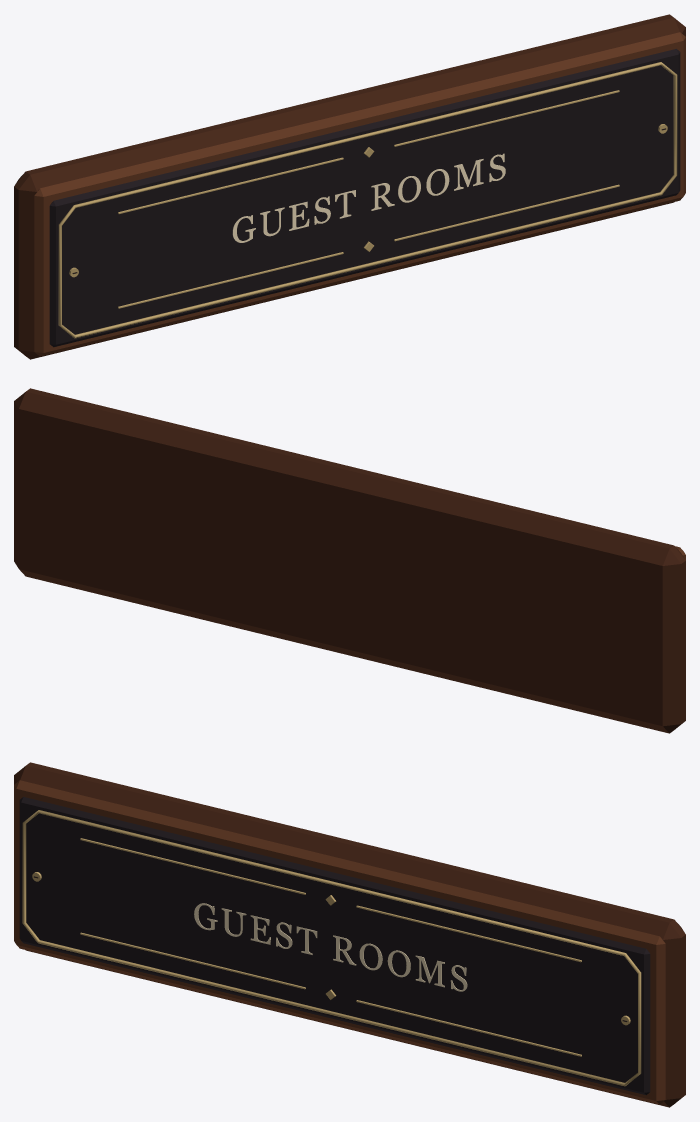
Rendered from GuestRoomsSign.glb.
The picture shows the model from 3 angles, top to bottom: view 1: azimuth 30°, elevation 25°; view 2: azimuth 150°, elevation 25°; view 3: azimuth 330°, elevation 25°; orthographic projection.
Parts seen in each view (by area): view 1: EnamelFace.004, OakMoulding.004, BevelledOak.004, GoldCartouche.004, Lettering_GUEST ROOMS, GoldHairline.016, GoldHairline.018, GoldHairline.019, GoldHairline.017; view 2: BevelledOak.004; view 3: EnamelFace.004, OakMoulding.004, BevelledOak.004, GoldCartouche.004, Lettering_GUEST ROOMS, GoldHairline.017, GoldHairline.019, GoldHairline.018, GoldHairline.016.
Part boxes in pixels (x1,y1,x2,y2): EnamelFace.004: [49, 49, 680, 347]; OakMoulding.004: [34, 32, 685, 356]; BevelledOak.004: [14, 14, 685, 359]; GoldCartouche.004: [58, 62, 677, 338]; Lettering_GUEST ROOMS: [232, 153, 505, 242]; GoldHairline.016: [118, 252, 343, 308]; GoldHairline.018: [118, 157, 343, 214]; GoldHairline.019: [394, 90, 619, 146]; GoldHairline.017: [394, 184, 619, 241]; BevelledOak.004: [14, 388, 685, 733]; EnamelFace.004: [19, 797, 650, 1095]; OakMoulding.004: [14, 780, 665, 1104]; BevelledOak.004: [14, 762, 685, 1107]; GoldCartouche.004: [22, 810, 641, 1086]; Lettering_GUEST ROOMS: [194, 903, 467, 991]; GoldHairline.017: [356, 1000, 581, 1056]; GoldHairline.019: [356, 905, 581, 962]; GoldHairline.018: [80, 838, 305, 894]; GoldHairline.016: [80, 932, 305, 989].
Bounding box in the file's own units: 5.1 × 1.35 × 0.381.
